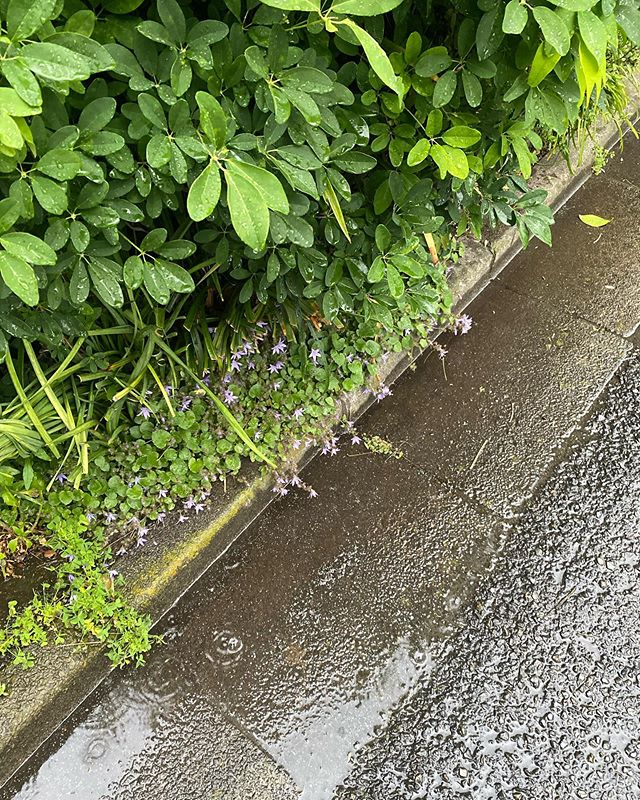street: (90, 193, 628, 800)
vegetation: (1, 1, 571, 531)
